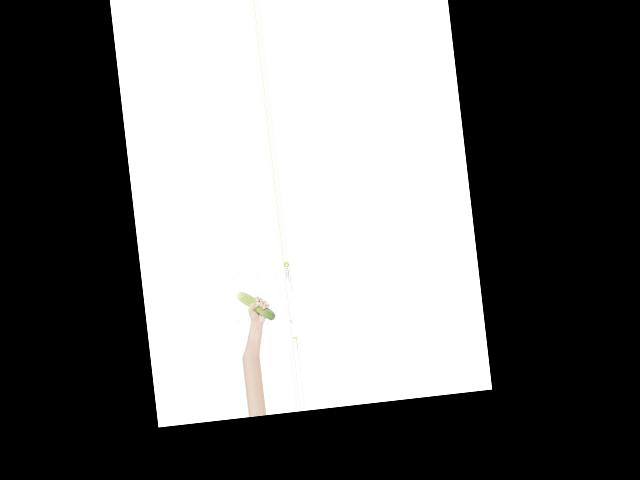cucumber: (237, 288, 276, 324)
